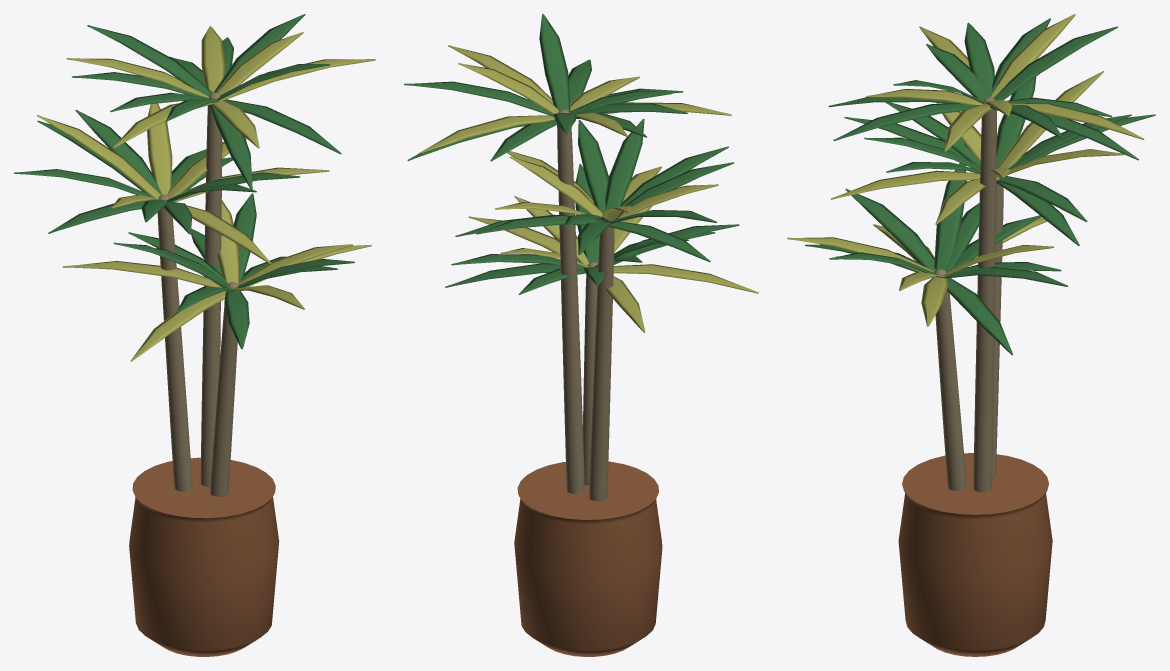
Rendered from bgd_cay.glb.
3 views of the same model, side by side, from view 1: azimuth 30°, elevation 25°; view 2: azimuth 150°, elevation 25°; view 3: azimuth 270°, elevation 25° (orthographic). The views are drawn at different scales.
Visible parts, largest first — view 1: bgd_cay; view 2: bgd_cay; view 3: bgd_cay.
Boxes of the visible parts, left/top/right/bottom form: bgd_cay: left=14, top=14, right=375, bottom=656; bgd_cay: left=404, top=14, right=758, bottom=656; bgd_cay: left=787, top=14, right=1155, bottom=656.
Bounding box in the file's own units: 1.07 × 1.87 × 1.05.
